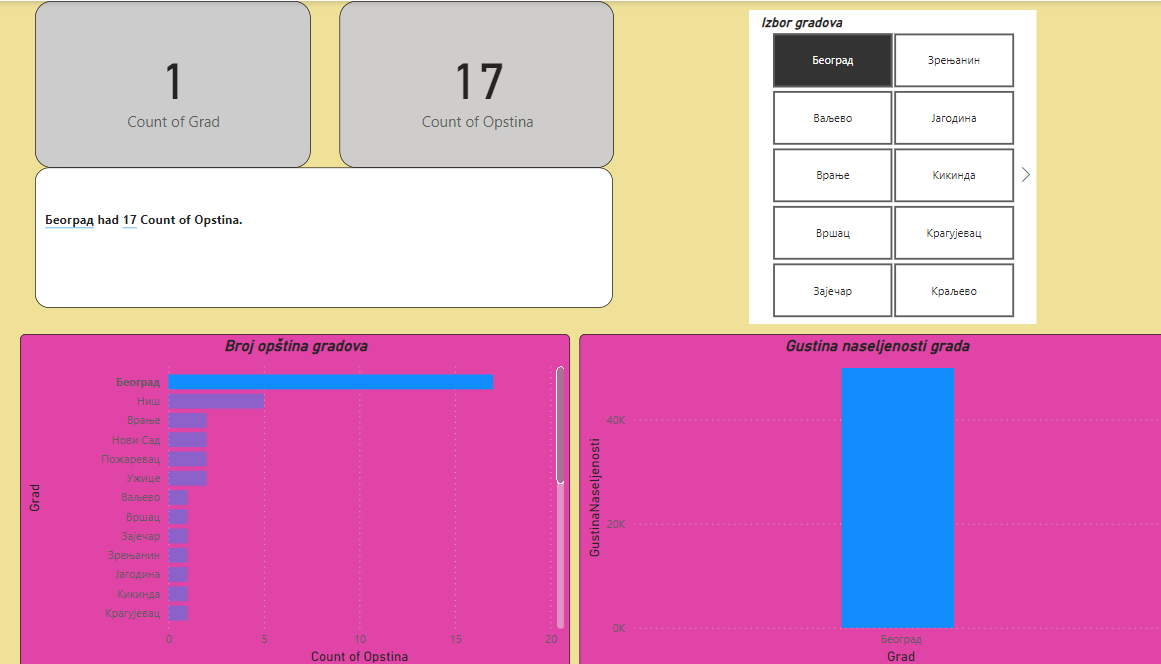

The dashboard page shown, as its layout file describes it:
{"tool":"powerbi","page":{"name":"Page 3","canvas":[1280,720],"ordinal":2},"visuals":[{"type":"card","fields":{"Values":["Count(BrojStanovnika.Grad)"]},"box":[52.4,0,297.2,179.8],"z":0},{"type":"card","fields":{"Values":["Count(BrojStanovnika.Opstina)"]},"box":[379.6,0,296,179.8],"z":1000},{"type":"barChart","title":"Broj opština gradova","fields":{"Category":["BrojStanovnika.Grad"],"Y":["CountNonNull(BrojStanovnika.Opstina)"]},"box":[35,359.6,593.2,360.9],"z":2000},{"type":"textbox","box":[52.4,179.8,623.1,151.1],"z":3000},{"type":"slicer","fields":{"Values":["GustinaNaseljenosti.Grad"]},"box":[821.7,10,309.7,338.4],"z":4000},{"type":"clusteredColumnChart","title":"Gustina naseljenosti grada","fields":{"Category":["GustinaNaseljenosti.Grad Hierarchy.Grad","GustinaNaseljenosti.Grad Hierarchy.Opstina"],"Y":["Sum(GustinaNaseljenosti.GustinaNaseljenosti)"]},"box":[639.4,359.6,640.6,360.9],"z":5000}]}

Visuals, with their boxes in screenshot pixels (x1, y1, x2, y2), scaled from the page's 1280x720 canvas onto the 1161x664 screenshot:
card - Count(BrojStanovnika.Grad): x1=48, y1=0, x2=317, y2=166
card - Count(BrojStanovnika.Opstina): x1=344, y1=0, x2=613, y2=166
"Broj opština gradova" barChart: x1=32, y1=332, x2=570, y2=663
textbox: x1=48, y1=166, x2=613, y2=305
slicer - GustinaNaseljenosti.Grad: x1=745, y1=9, x2=1026, y2=321
"Gustina naseljenosti grada" clusteredColumnChart: x1=580, y1=332, x2=1160, y2=663
